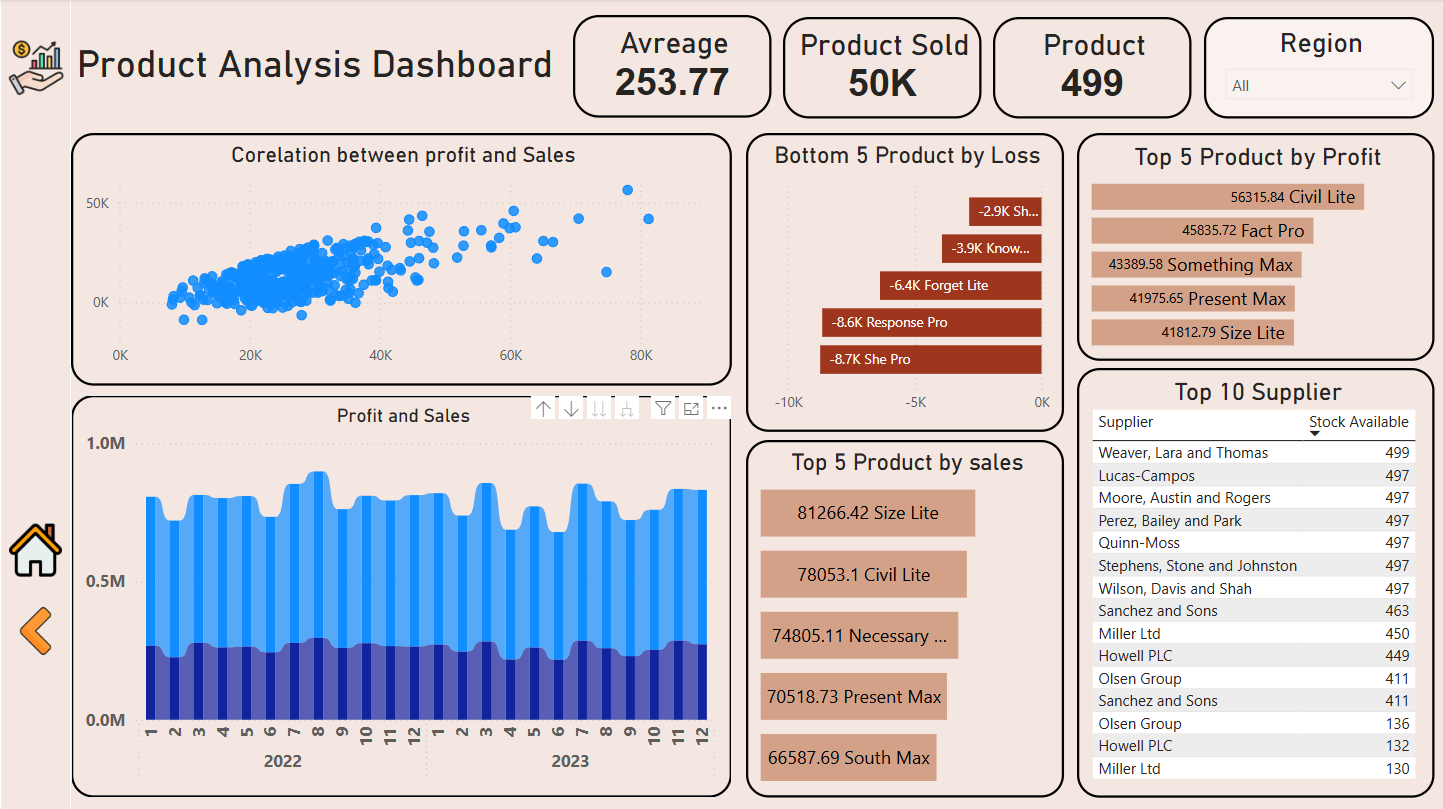

The dashboard page shown, as its layout file describes it:
{"tool":"powerbi","page":{"name":"Product Performance","canvas":[1280,720],"ordinal":2},"visuals":[{"type":"shape","box":[0,0,63.2,719.8],"z":0},{"type":"image","box":[0,460,63.2,57.4],"z":1000},{"type":"image","box":[0,533,63.2,55.4],"z":2000},{"type":"image","box":[0,31,63.2,60.3],"z":3000},{"type":"ribbonChart","title":"Profit and Sales","fields":{"Y":["Sum(SalesTransaction.Total Sales)","Sum(SalesTransaction.Profit)"],"Category":["SalesTransaction.Year.Variation.Date Hierarchy.Year","SalesTransaction.Month"]},"box":[63.2,351.1,585.5,357],"z":4000},{"type":"card","title":"Avreage","fields":{"Values":["MeasureTable.Average Sale"]},"box":[507.7,14.6,176,91.4],"z":5000},{"type":"card","title":"Product","fields":{"Values":["Count(ProductDetails.Product ID)"]},"box":[880.2,15.6,176,90.5],"z":6000},{"type":"card","title":"Product Sold","fields":{"Values":["Sum(SalesTransaction.Quantity Sold)"]},"box":[694.5,15.6,176,90.5],"z":7000},{"type":"tableEx","title":"Top 10 Supplier","fields":{"Values":["ProductDetails.Supplier","ProductDetails.Stock Available"]},"box":[955.1,326.8,317.1,381.3],"z":8000},{"type":"clusteredBarChart","title":"Top 5 Product by Profit","fields":{"Category":["ProductDetails.Product Name"],"Y":["Sum(SalesTransaction.Profit)"]},"box":[955.1,118.7,317.1,202.3],"z":9000},{"type":"clusteredBarChart","title":"Top 5 Product by sales","fields":{"Category":["ProductDetails.Product Name"],"Y":["Sum(SalesTransaction.Total Sales)"]},"box":[661.4,391,282.1,317.1],"z":10000},{"type":"scatterChart","title":"Corelation between profit and Sales","fields":{"Y":["Sum(SalesTransaction.Profit)"],"X":["Sum(SalesTransaction.Total Sales)"],"Category":["ProductDetails.Product Name"]},"box":[63.2,118.7,585.5,223.7],"z":11000},{"type":"slicer","title":"Region","fields":{"Values":["CustomerDetails.Region"]},"box":[1068,15.6,204.3,90.5],"z":12000},{"type":"clusteredBarChart","title":"Bottom 5 Product by Loss","fields":{"Y":["Sum(SalesTransaction.Profit)"],"Category":["ProductDetails.Product Name"]},"box":[661.4,118.7,282.1,264.6],"z":13000},{"type":"textbox","box":[63.2,33.1,444.5,54.5],"z":14000}]}

Visuals, with their boxes in screenshot pixels (x1, y1, x2, y2), scaled from the page's 1280x720 canvas onto the 1443x809 screenshot:
shape: (0, 0, 71, 808)
image: (0, 517, 71, 581)
image: (0, 599, 71, 661)
image: (0, 35, 71, 103)
"Profit and Sales" ribbonChart: (71, 394, 731, 796)
"Avreage" card: (572, 16, 771, 119)
"Product" card: (992, 18, 1191, 119)
"Product Sold" card: (783, 18, 981, 119)
"Top 10 Supplier" tableEx: (1077, 367, 1434, 796)
"Top 5 Product by Profit" clusteredBarChart: (1077, 133, 1434, 361)
"Top 5 Product by sales" clusteredBarChart: (746, 439, 1064, 796)
"Corelation between profit and Sales" scatterChart: (71, 133, 731, 385)
"Region" slicer: (1204, 18, 1434, 119)
"Bottom 5 Product by Loss" clusteredBarChart: (746, 133, 1064, 431)
textbox: (71, 37, 572, 98)
